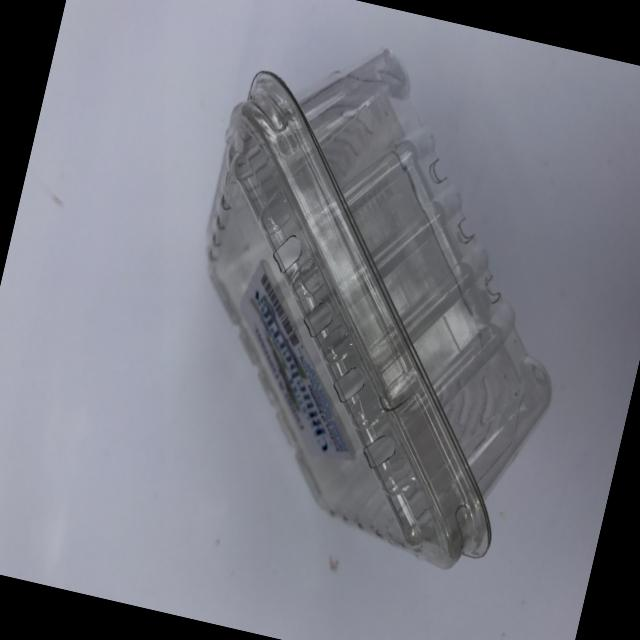Plastic: (116, 0, 631, 620)
